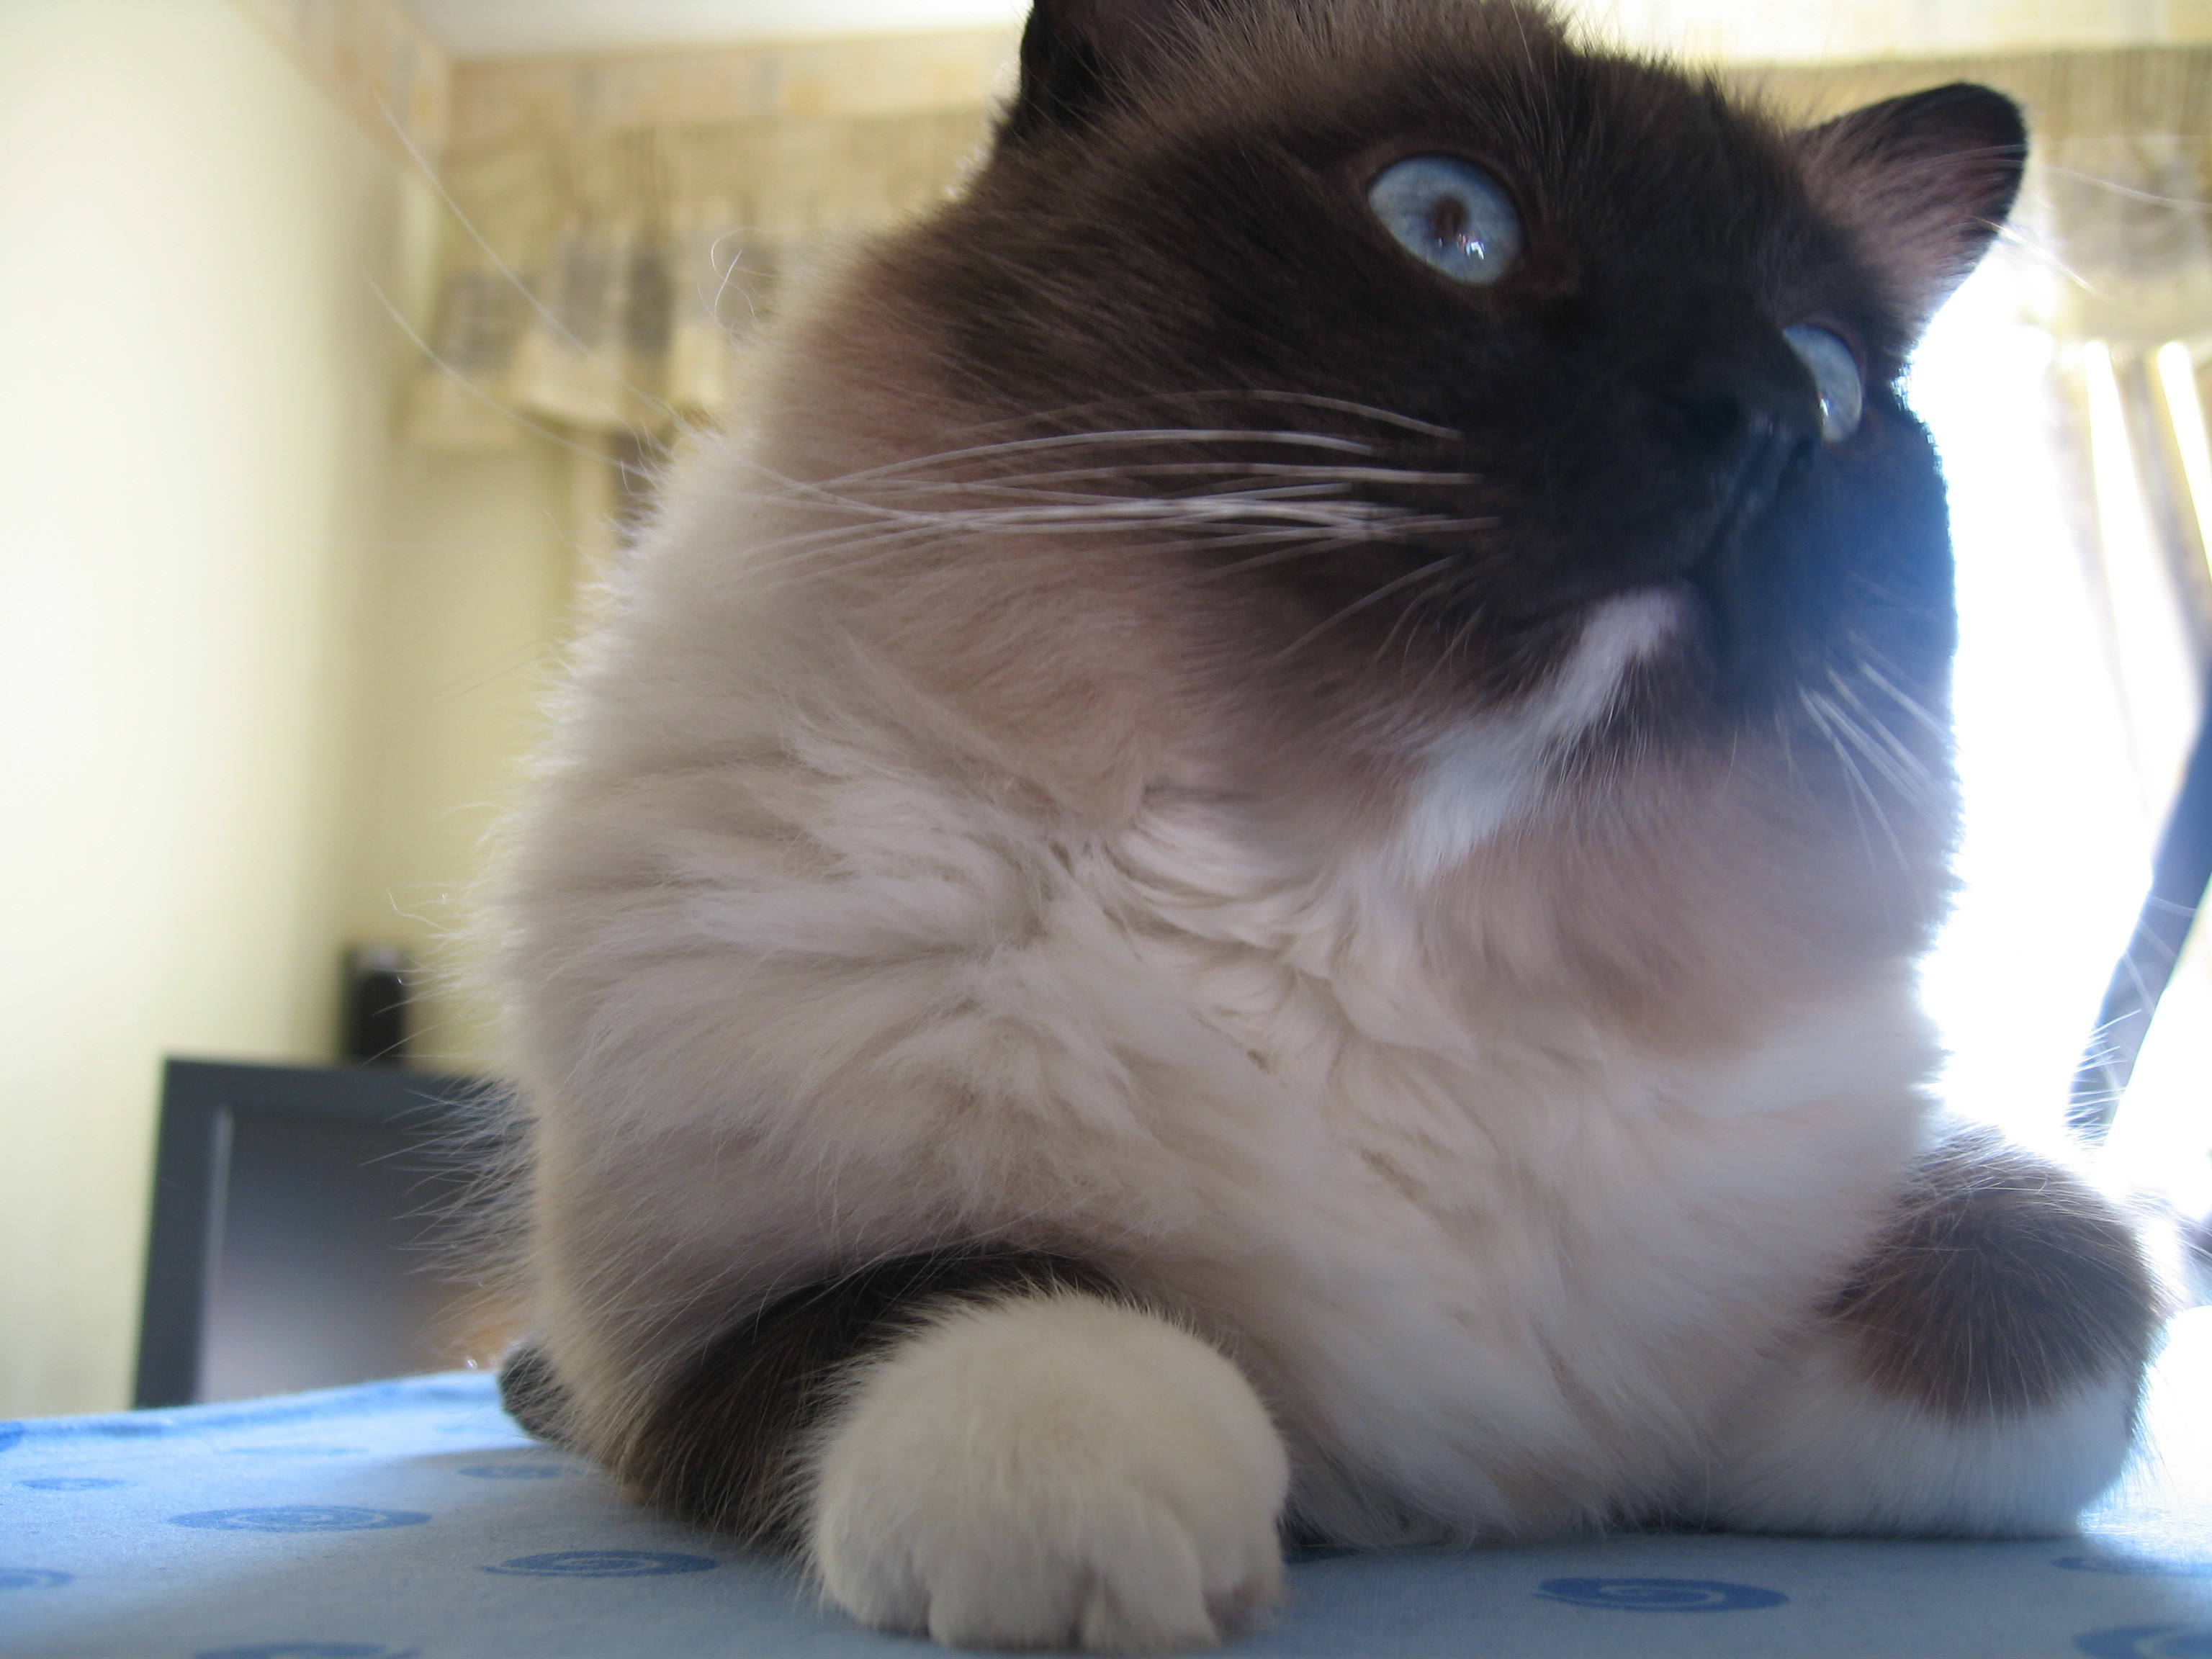Birman: (432, 21, 2165, 1659)
